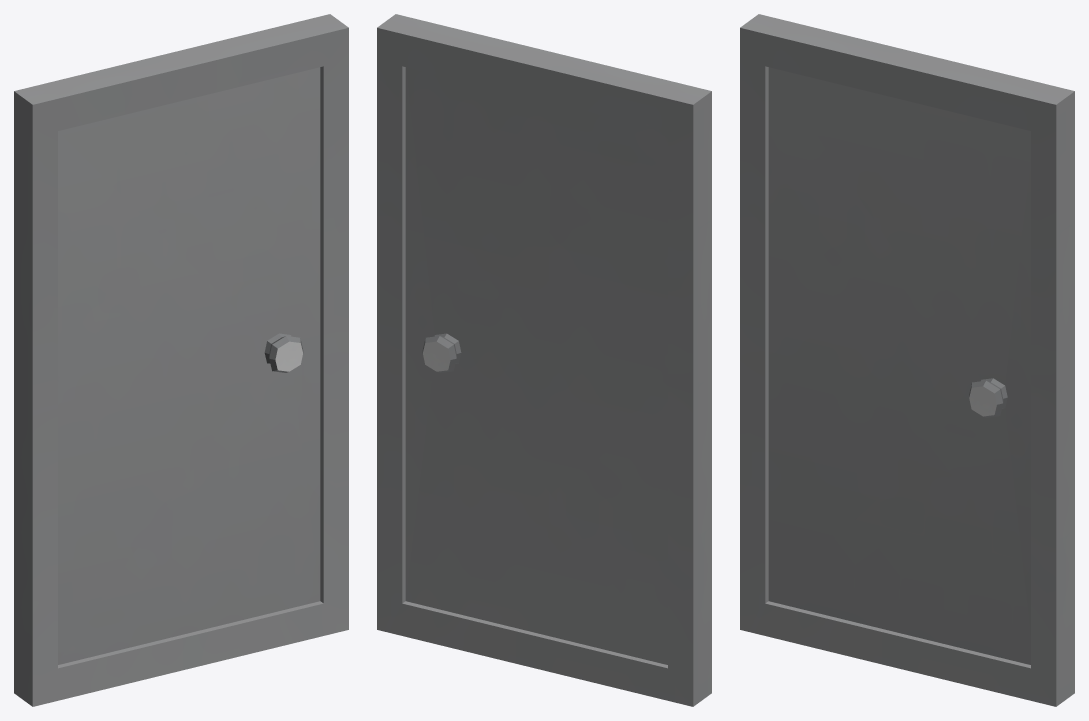
Rendered from door_2.glb.
The picture shows the model from 3 angles, left to right: view 1: azimuth 30°, elevation 25°; view 2: azimuth 150°, elevation 25°; view 3: azimuth 330°, elevation 25°; orthographic projection.
Parts seen in each view (by area): view 1: door_2; view 2: door_2; view 3: door_2.
Boxes of the visible parts, bbox=[...] form: door_2: bbox=[14, 14, 348, 706]; door_2: bbox=[377, 14, 711, 706]; door_2: bbox=[740, 14, 1074, 706].
Bounding box in the file's own units: 0.8007 × 1.46 × 0.1413.
1 material, 1 textured.
